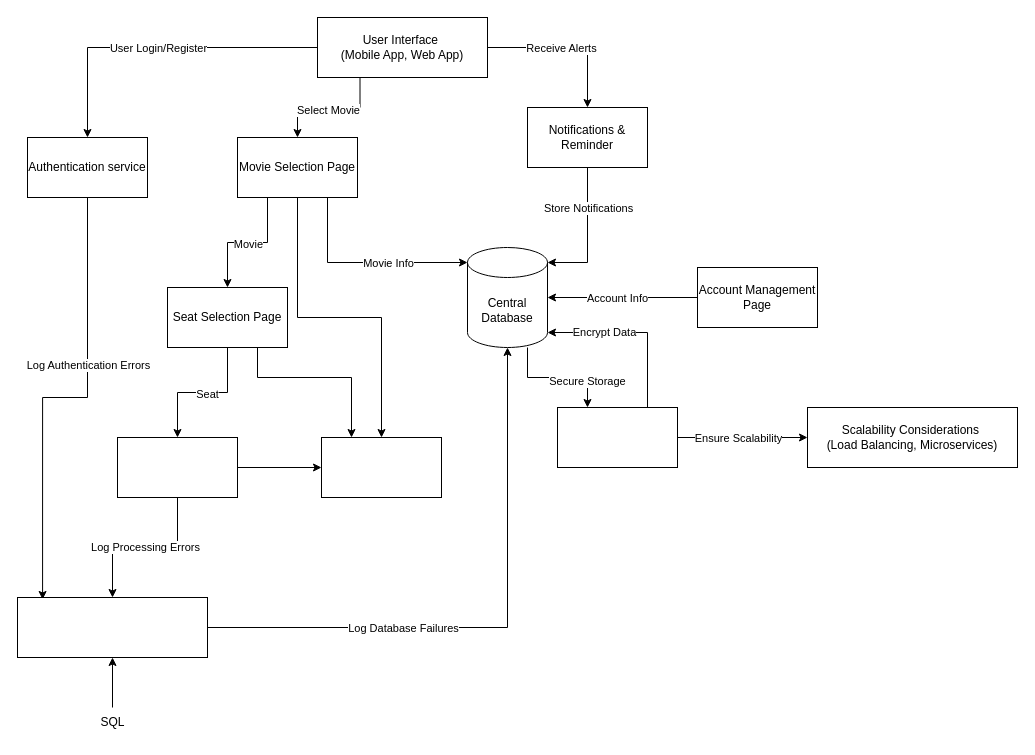
Some shapes in this 1035 by 755 pixel diagram are drawn without their labels. Here are the shapes that lost their labels. From the top down, the centre of each, then its label:
pixel 617 437: Infrastructure (Cloud Storage, Security & Encryption)
pixel 177 467: Payment Page
pixel 381 467: Confirmation
pixel 112 627: Error Handling & Logging
